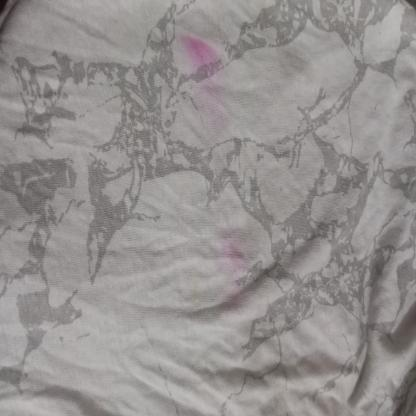spot: (213, 220, 267, 358), (174, 27, 236, 142)
